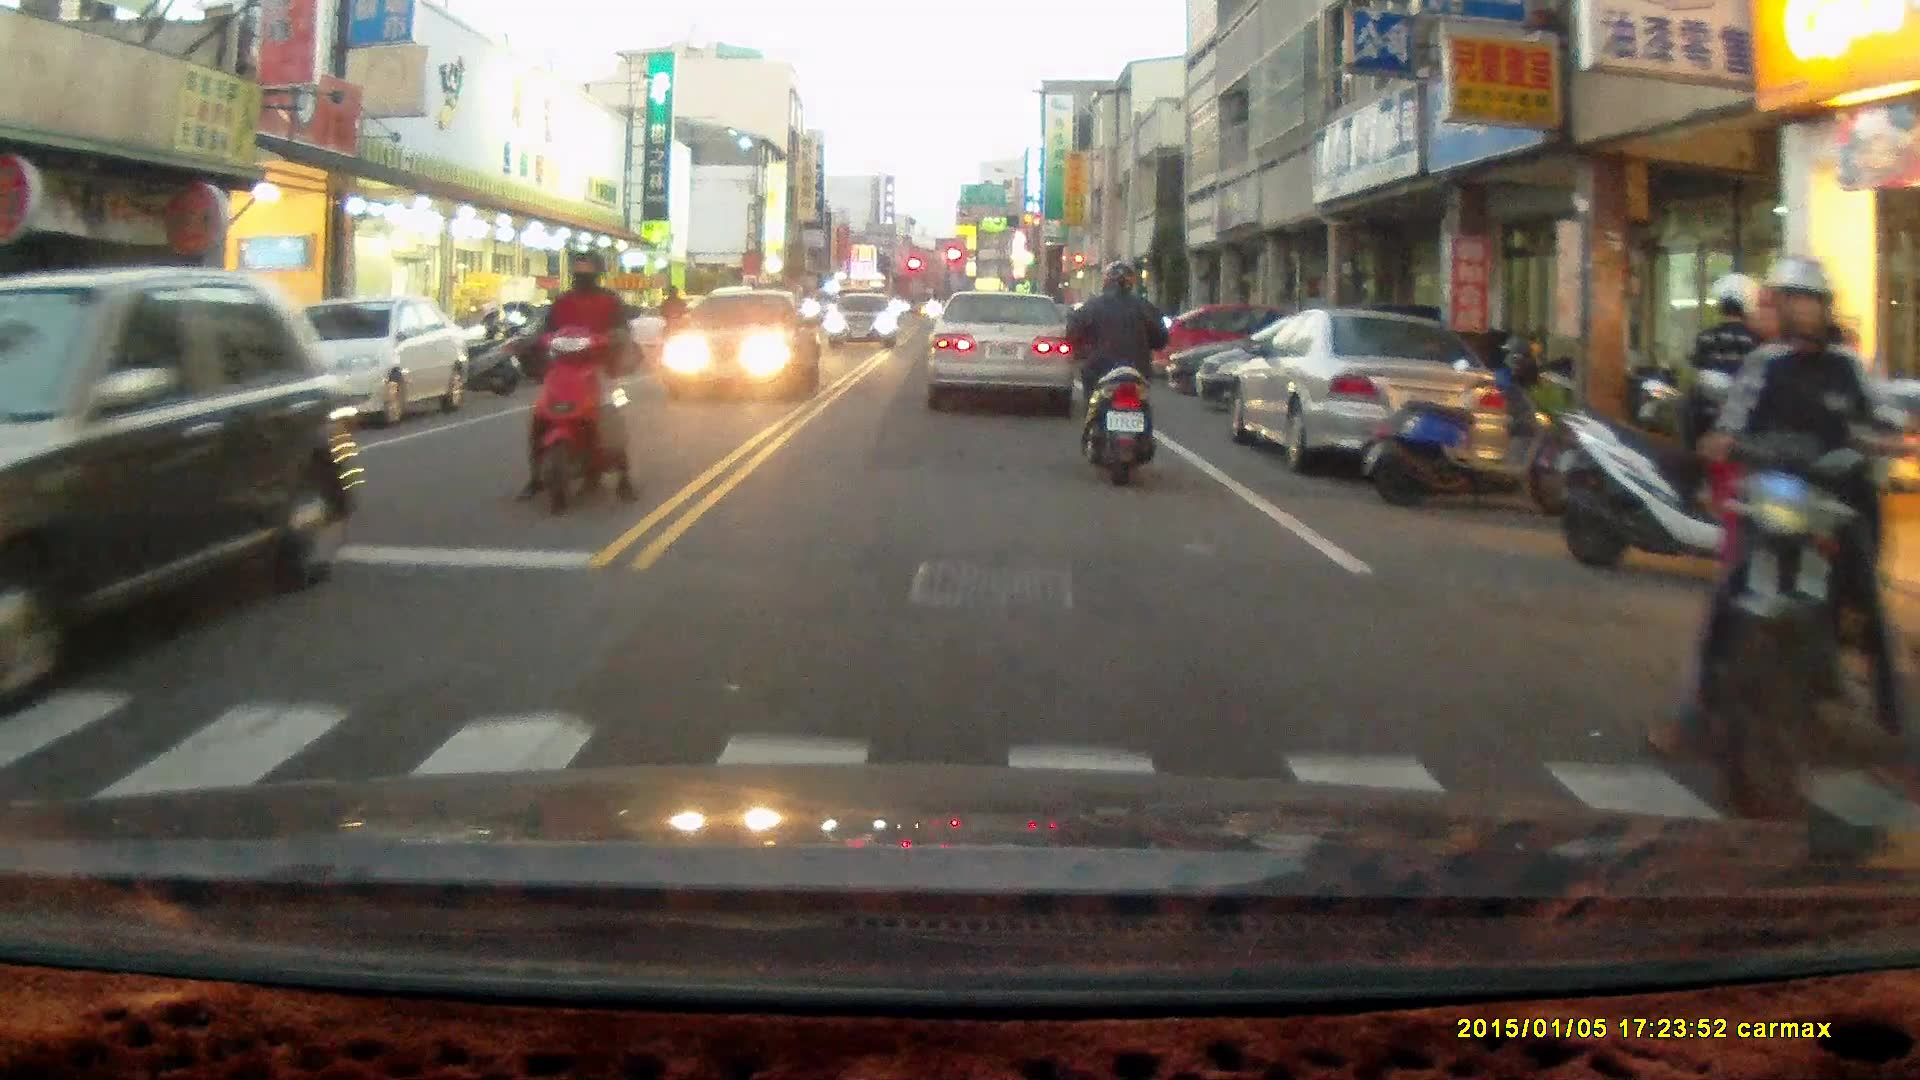pedestrian: (1684, 269, 1778, 595), (655, 284, 685, 356)
rider: (1651, 255, 1909, 825), (516, 246, 640, 514), (1066, 253, 1175, 480)
vehicle: (1, 268, 373, 679), (1227, 307, 1511, 479), (248, 294, 475, 429), (926, 290, 1080, 417), (665, 287, 823, 406), (1143, 294, 1360, 379), (823, 289, 901, 347)
